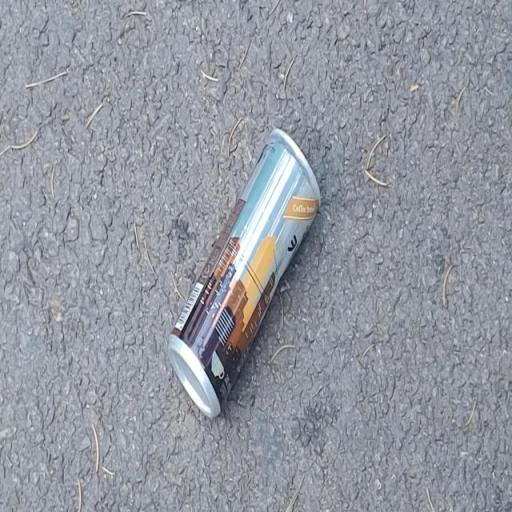metal: (164, 112, 324, 428)
